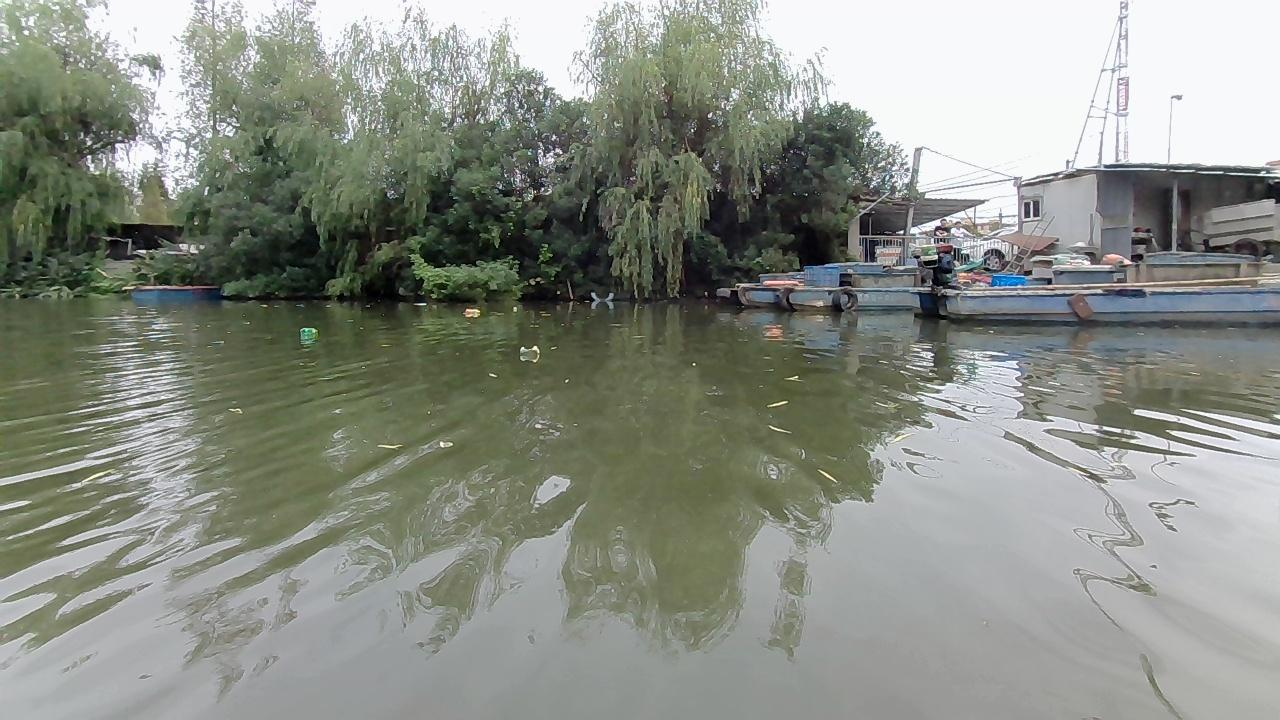bottle: (518, 343, 541, 354), (299, 327, 318, 333), (464, 308, 480, 313)
